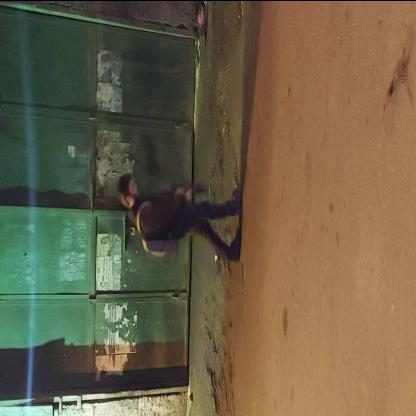long weapon: (167, 168, 214, 208)
